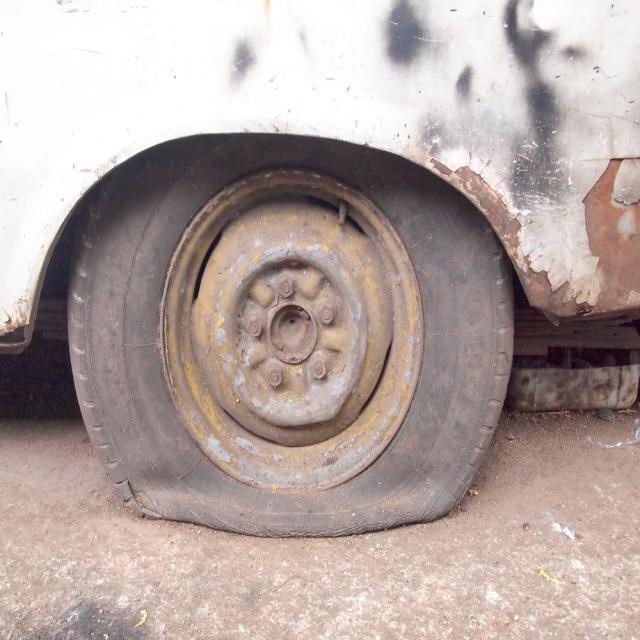tire flat: (67, 133, 514, 537)
